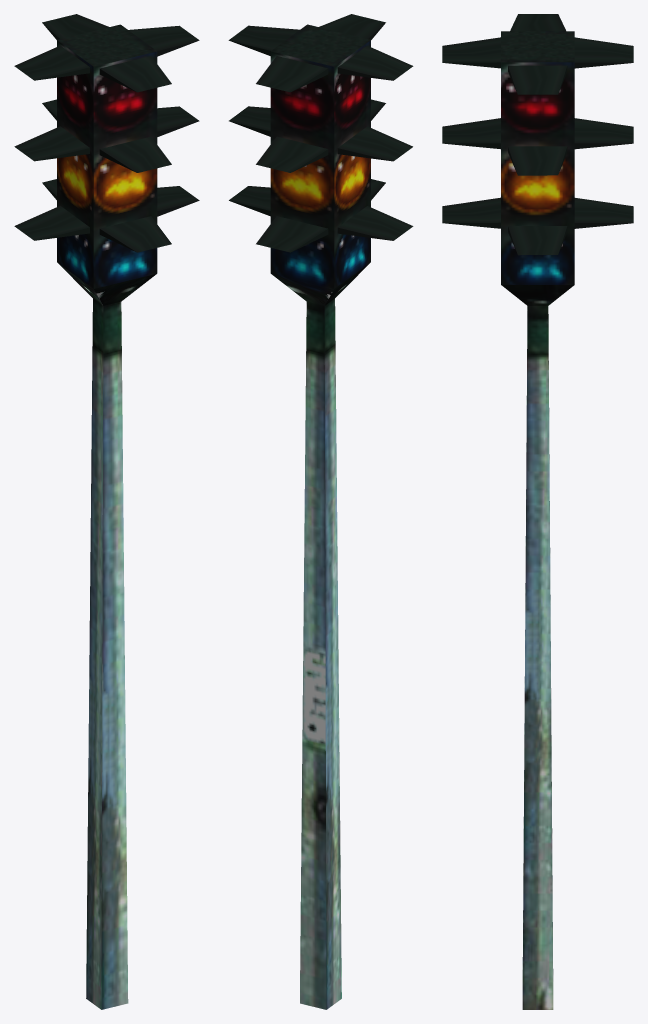
File: traffic_light.03.4sides.obj
3 views of the same model, side by side, from view 1: azimuth 30°, elevation 25°; view 2: azimuth 150°, elevation 25°; view 3: azimuth 270°, elevation 25° (orthographic).
Visible parts, largest first — view 1: semaforo4sideslowress01; view 2: semaforo4sideslowress01; view 3: semaforo4sideslowress01.
Boxes of the visible parts, x1,y1,x2,y2 form: semaforo4sideslowress01: [14, 14, 199, 1009]; semaforo4sideslowress01: [228, 14, 413, 1009]; semaforo4sideslowress01: [442, 14, 633, 1009].
Bounding box in the file's own units: 410 × 2264 × 411.
Materials: 1 (1 with a texture image).
